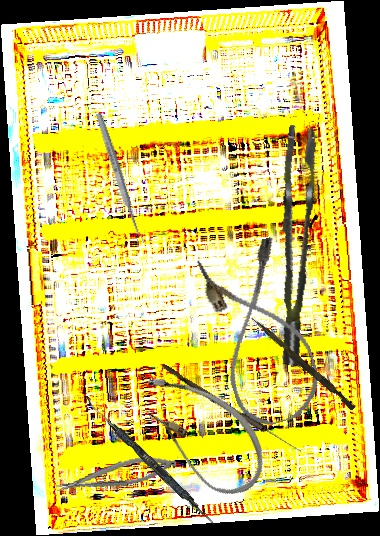Cannula: (193, 235, 329, 433), (117, 359, 284, 509)
Needle Holder: (53, 451, 179, 498)
Pusher: (247, 316, 358, 411)
Spatula Surgical: (79, 395, 220, 527)
Surgical Spoon: (159, 363, 304, 455), (94, 111, 145, 246)
Tissue Forceps: (248, 124, 340, 367)
